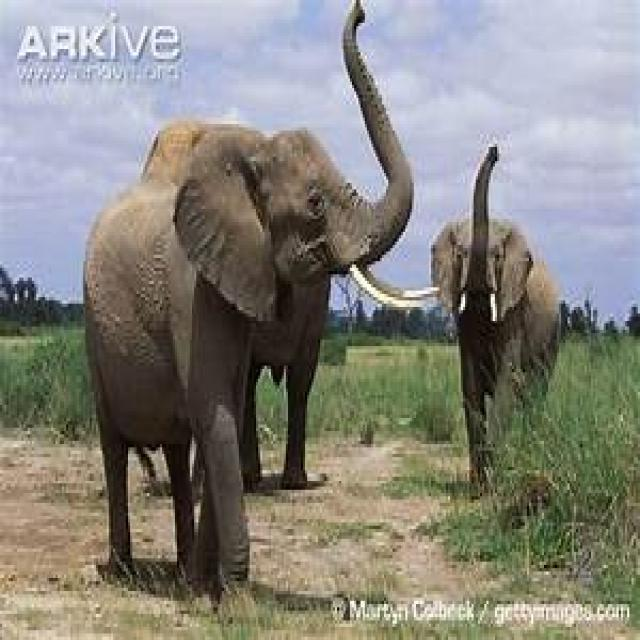elephant: (83, 3, 414, 607), (431, 147, 565, 490)
